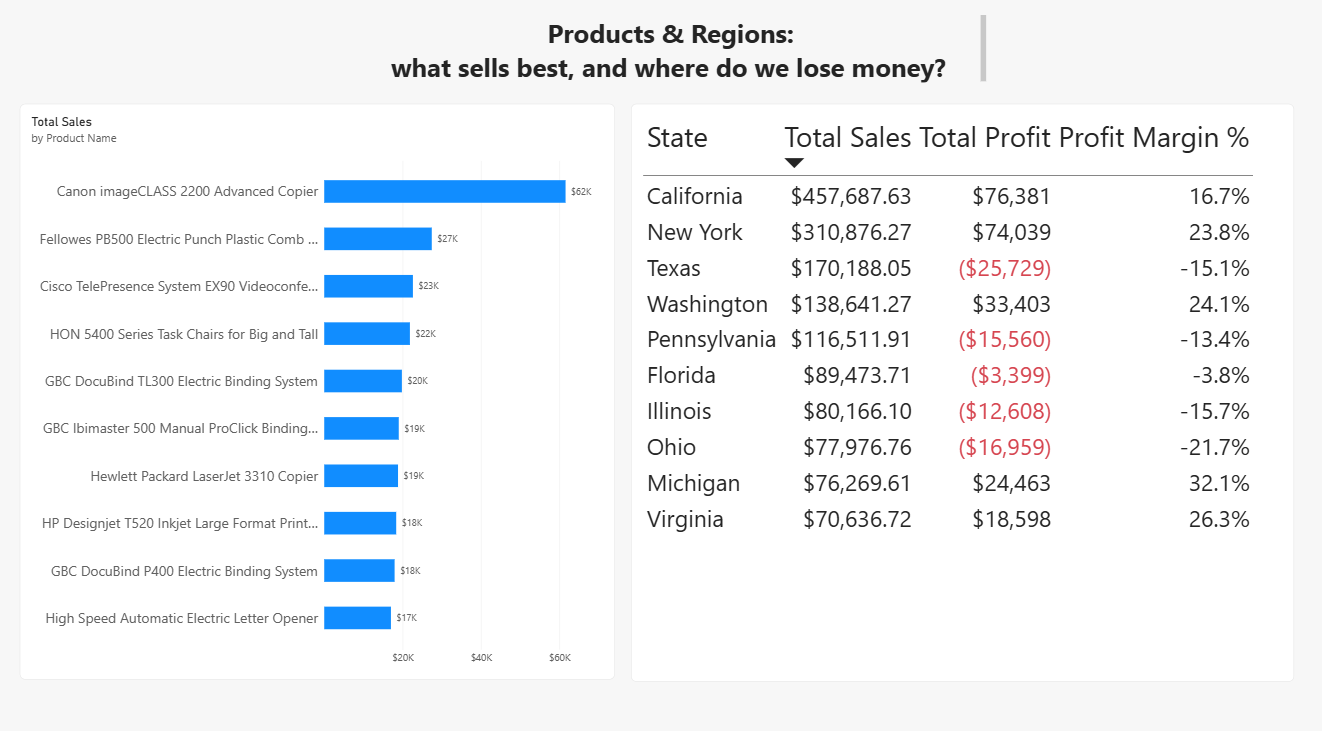

What the dashboard file says about the page in this screenshot:
{"tool":"powerbi","page":{"name":"Products & Regions","canvas":[1920,1080],"ordinal":1},"visuals":[{"type":"clusteredBarChart","fields":{"Category":["Products.Product Name"],"Y":["Sales.Total Sales"]},"box":[33.5,164.4,861.4,834],"z":0},{"type":"tableEx","fields":{"Values":["Sales.State","Sales.Total Sales","Sales.Total Profit","Sales.Profit Margin %"]},"box":[919.2,164.4,960,836.7],"z":1000},{"type":"textbox","box":[572.2,36.5,861.4,97.4],"z":1001}]}

Visuals, with their boxes in screenshot pixels (x1, y1, x2, y2), scaled from the page's 1920x1080 canvas onto the 1322x731 screenshot:
clusteredBarChart - Products.Product Name x Sales.Total Sales: 23:111:616:676
tableEx - Sales.State x Sales.Total Sales: 633:111:1294:678
textbox: 394:25:987:91
